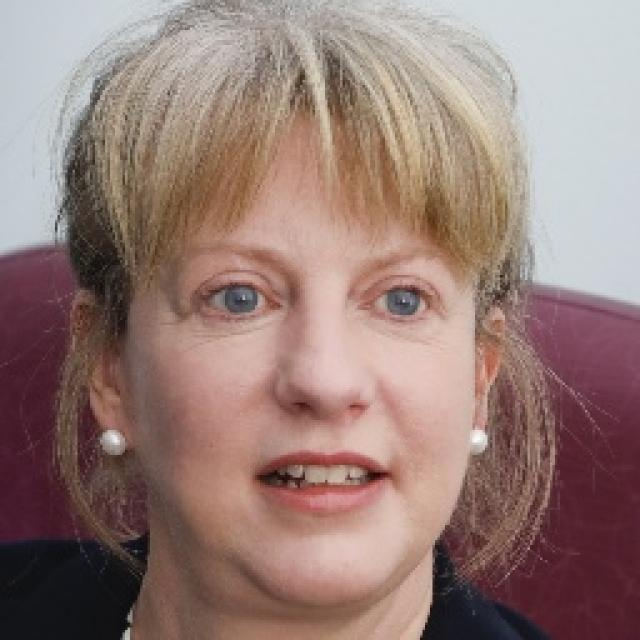earlobe: (66, 284, 137, 452), (472, 301, 510, 452)
